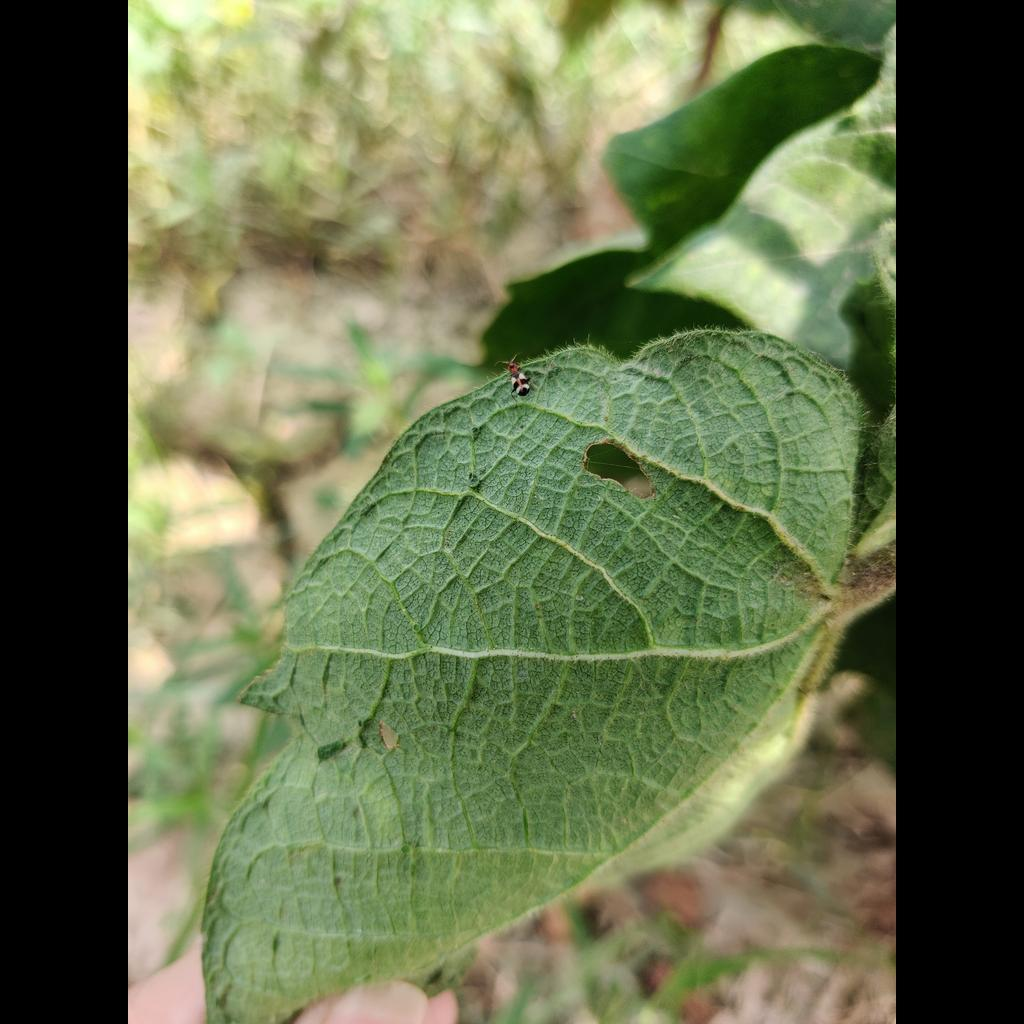nymph: (575, 596, 584, 601), (672, 515, 680, 518), (539, 496, 543, 499), (679, 508, 682, 511)
